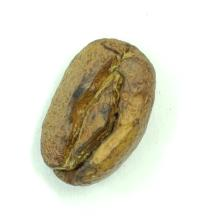NG: (61, 64, 127, 173)
